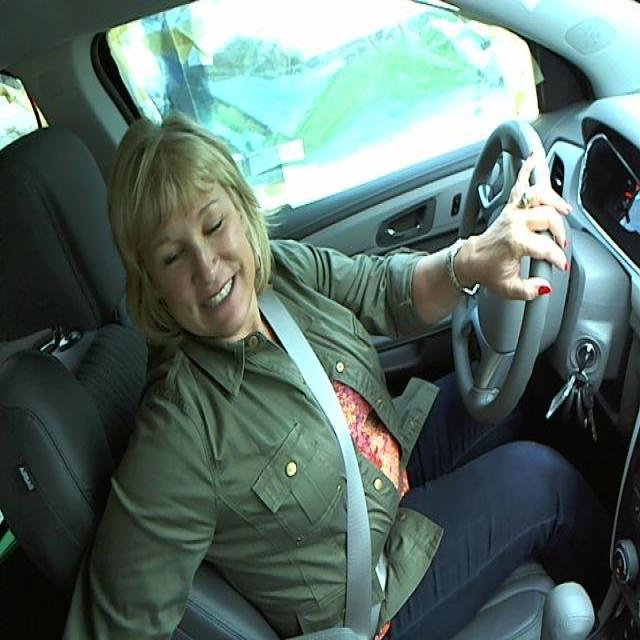seatbelt: (267, 304, 403, 639)
